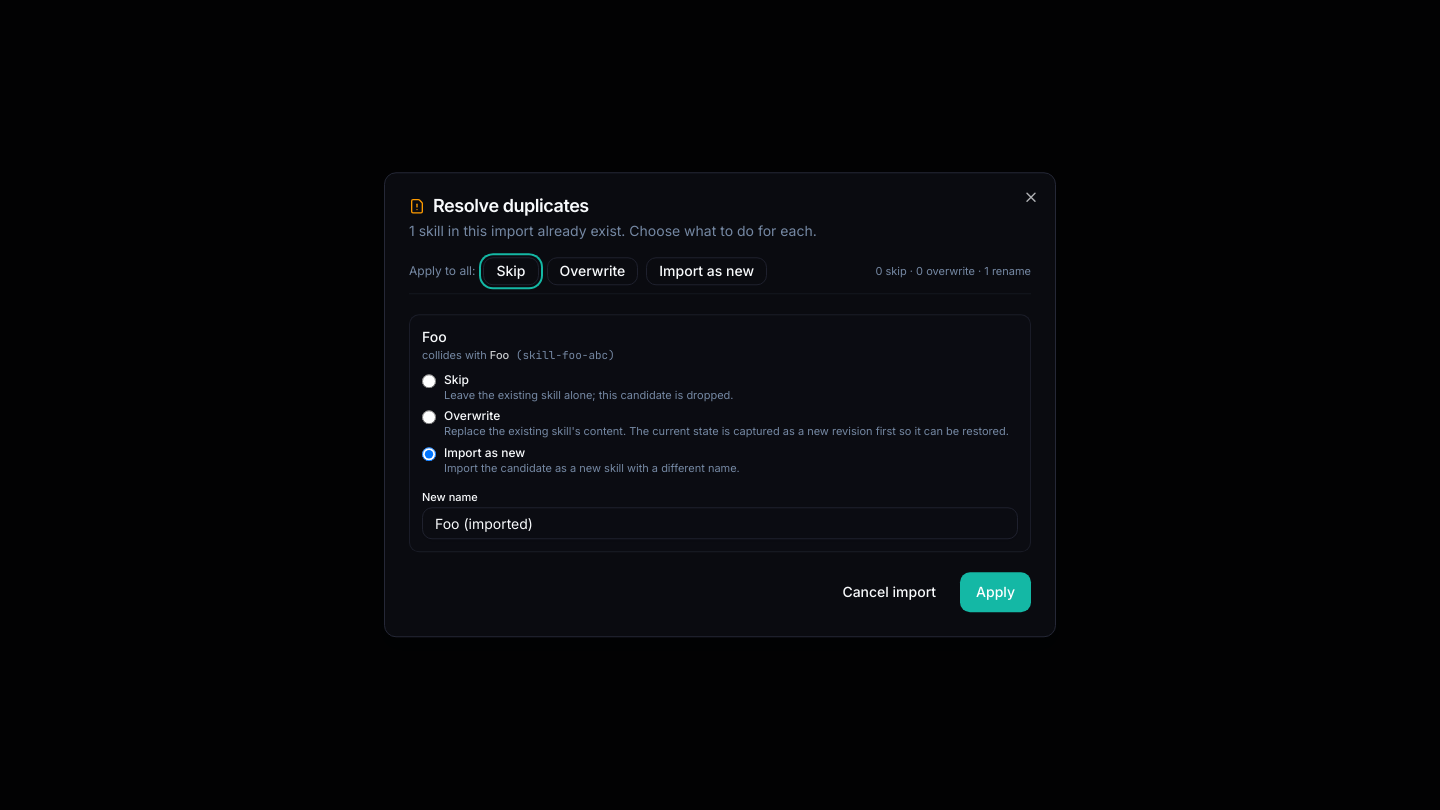
Test: ImportConflictDialog — Apply validation › blocks Apply when a Rename row has an empty name
Clear the field with test id "import-conflict-cand-1-rename-input" at (720, 524), box [422, 508, 1018, 540]
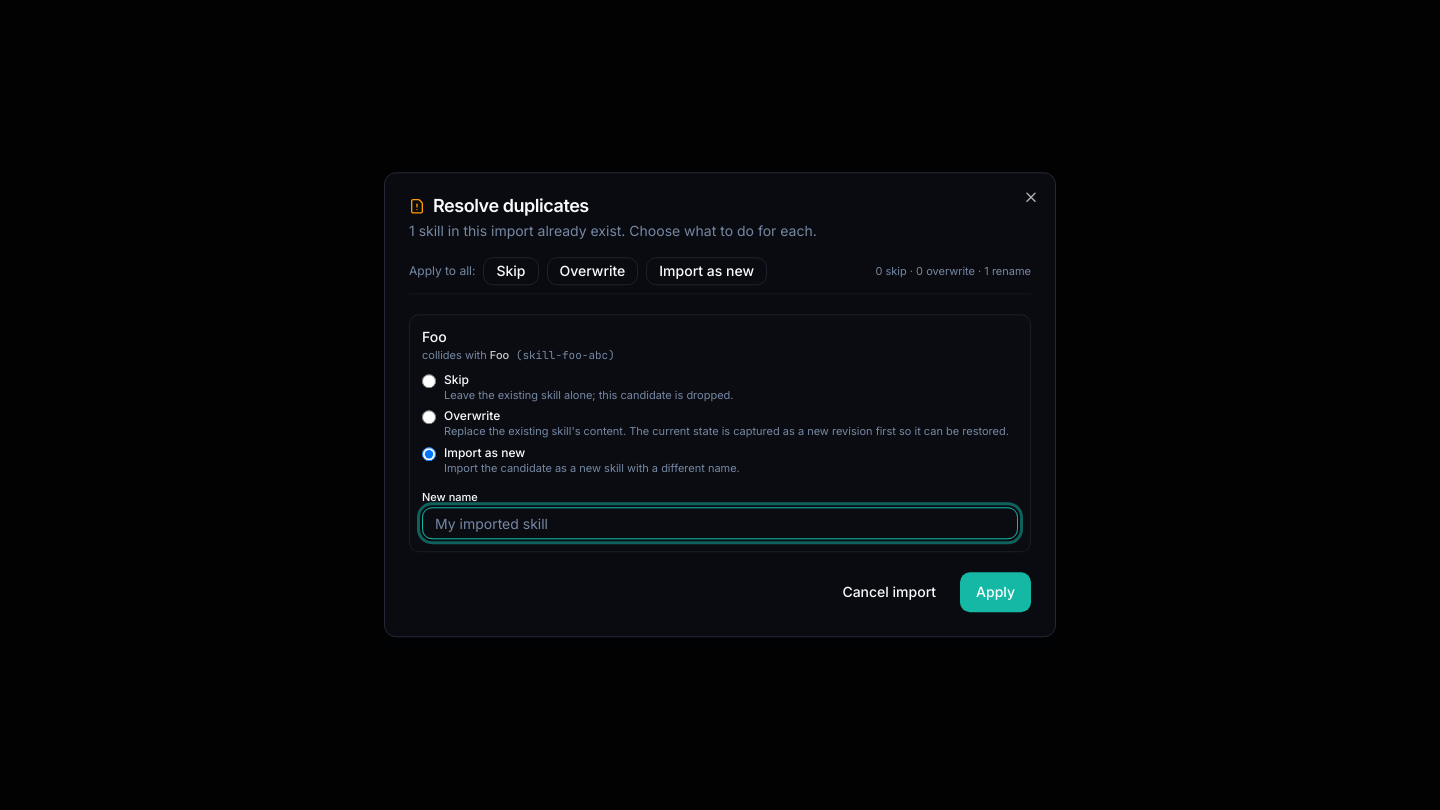
Click the button with test id "import-conflicts-apply" at (996, 593), box [960, 573, 1031, 613]
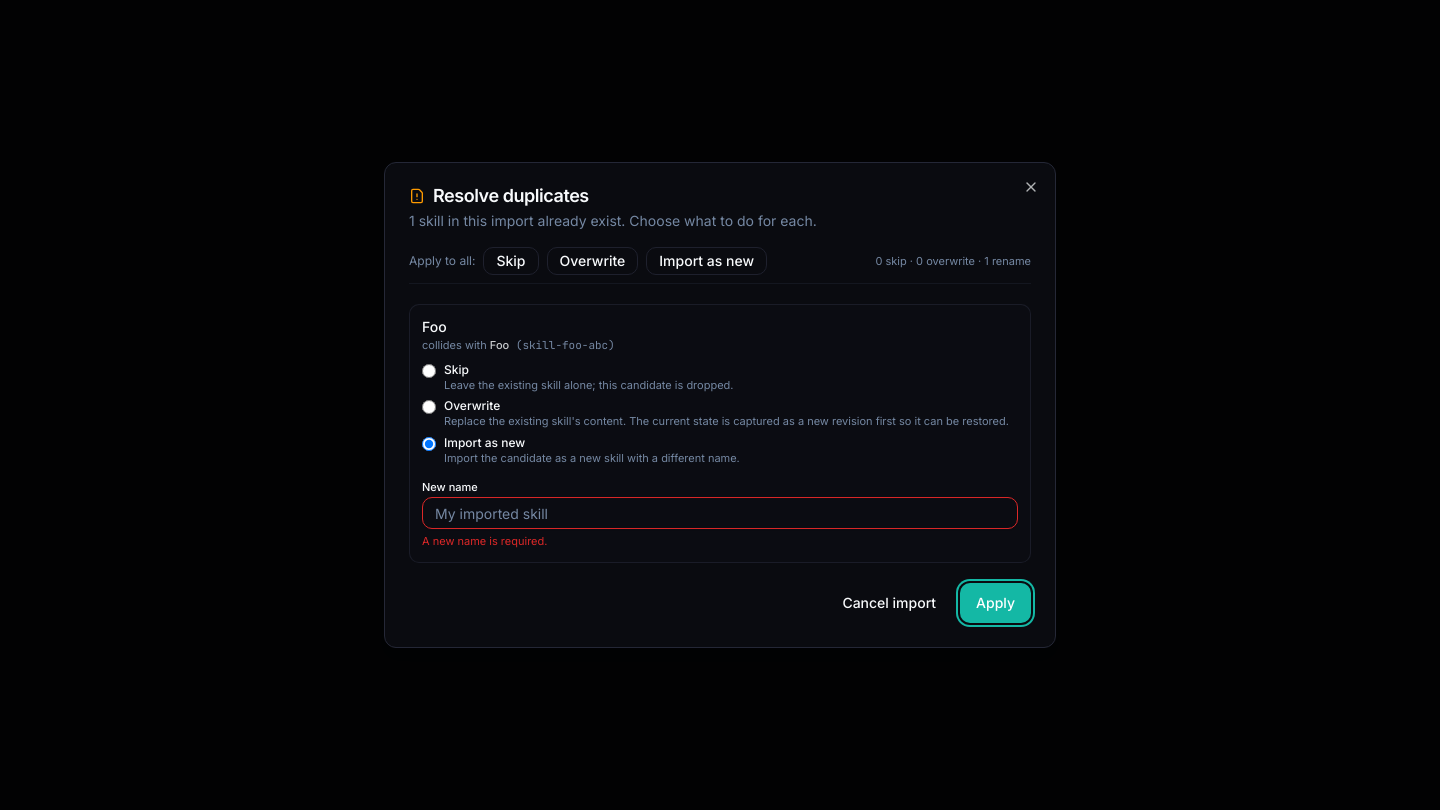
expect the text "A new name is required." is shown: met, box [422, 534, 547, 548]
